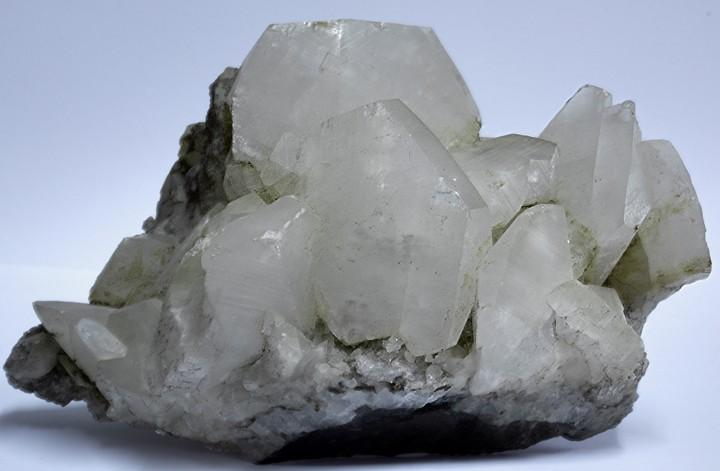calcite: (35, 19, 712, 460)
